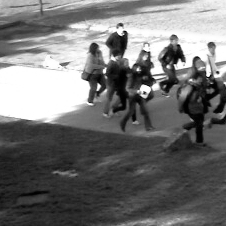person: (122, 63, 155, 133), (157, 32, 186, 96), (105, 48, 127, 120), (187, 78, 210, 144), (83, 43, 105, 106), (134, 43, 156, 96), (106, 21, 128, 58), (187, 51, 207, 77), (205, 38, 219, 73)
